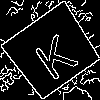K: (26, 26, 79, 82)
